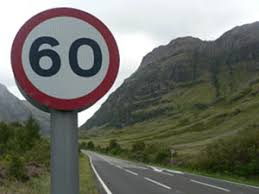Speed_limit_60km: (12, 8, 119, 110)
